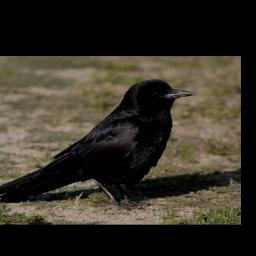Crow: (0, 78, 197, 211)
